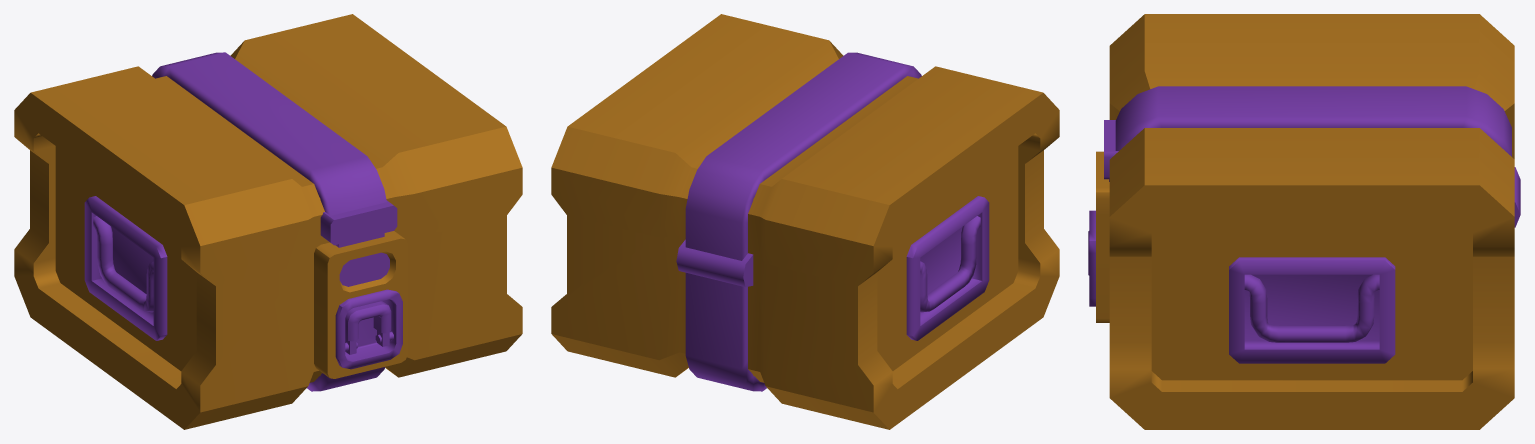
Rendered from obj_interactive_smallchest_off.fbx.
3 views of the same model, side by side, from view 1: azimuth 30°, elevation 25°; view 2: azimuth 150°, elevation 25°; view 3: azimuth 270°, elevation 25° (orthographic). The views are drawn at different scales.
Visible parts, largest first — view 1: obj_interactive_smallchest_off; view 2: obj_interactive_smallchest_off; view 3: obj_interactive_smallchest_off.
Boxes of the visible parts, left/top/right/bottom form: obj_interactive_smallchest_off: left=14, top=14, right=522, bottom=429; obj_interactive_smallchest_off: left=551, top=14, right=1059, bottom=429; obj_interactive_smallchest_off: left=1088, top=14, right=1520, bottom=429.
Bounding box in the file's own units: 3 × 2 × 3.2.
